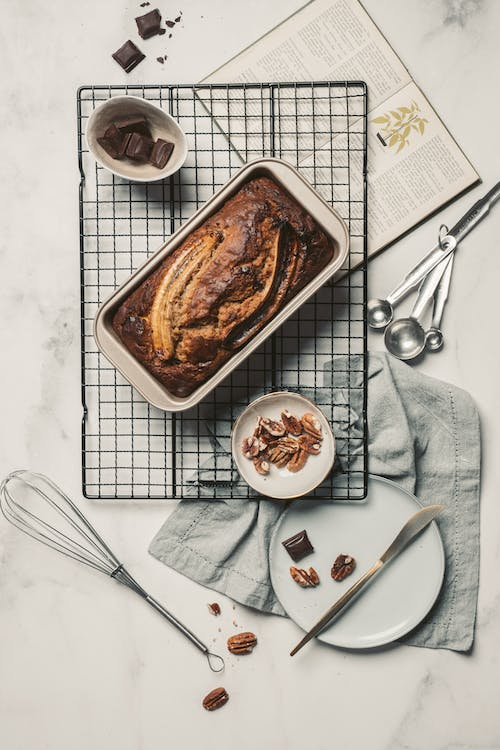knife: (288, 504, 445, 659)
